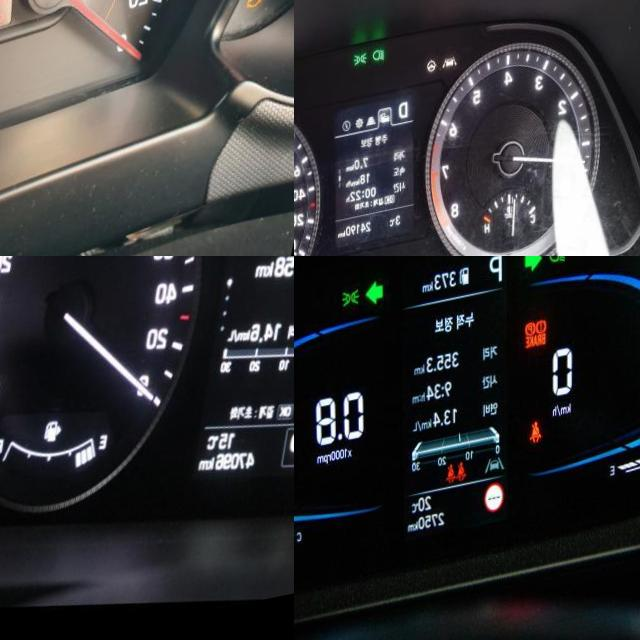LaneCenteringOff: (443, 68, 459, 83)
Low beam: (549, 261, 566, 282), (373, 58, 386, 74)
SideLamp: (342, 296, 360, 317), (353, 60, 368, 77)
